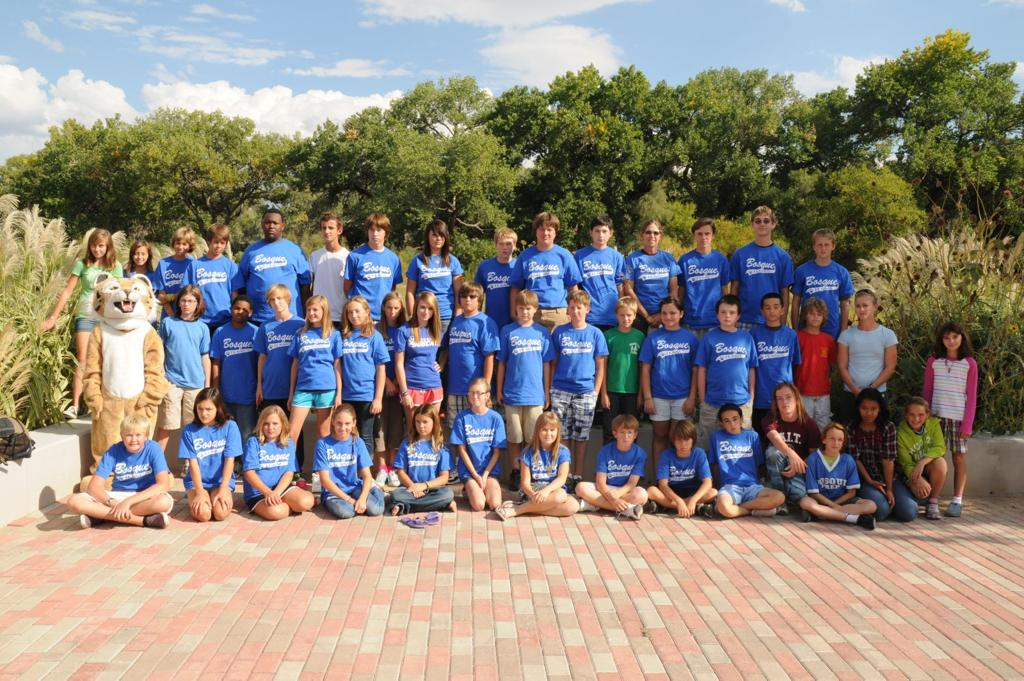face: (262, 212, 281, 238), (123, 428, 144, 451), (196, 399, 216, 423), (775, 387, 794, 412), (261, 413, 280, 438), (333, 412, 351, 438), (907, 403, 926, 427), (854, 294, 872, 319), (661, 303, 679, 327), (617, 421, 635, 445), (540, 419, 558, 443), (415, 412, 433, 436), (569, 298, 587, 322), (859, 398, 877, 422), (826, 428, 843, 453), (718, 303, 737, 325), (722, 410, 740, 433), (536, 222, 554, 245), (694, 226, 712, 248), (753, 213, 771, 235), (763, 298, 780, 321), (348, 302, 365, 325), (815, 234, 831, 258), (644, 223, 660, 247), (468, 384, 484, 407), (674, 432, 693, 451), (591, 225, 609, 245), (232, 300, 249, 321), (459, 291, 477, 310), (516, 301, 534, 320), (368, 224, 385, 244), (321, 220, 337, 241), (89, 239, 107, 257), (942, 331, 961, 348), (270, 292, 286, 312), (385, 299, 400, 320), (806, 307, 822, 326), (497, 238, 513, 257), (417, 300, 432, 320), (212, 234, 226, 255), (179, 295, 195, 313), (306, 304, 321, 323), (618, 308, 633, 327), (132, 247, 147, 265), (429, 230, 444, 248), (173, 240, 188, 255)
